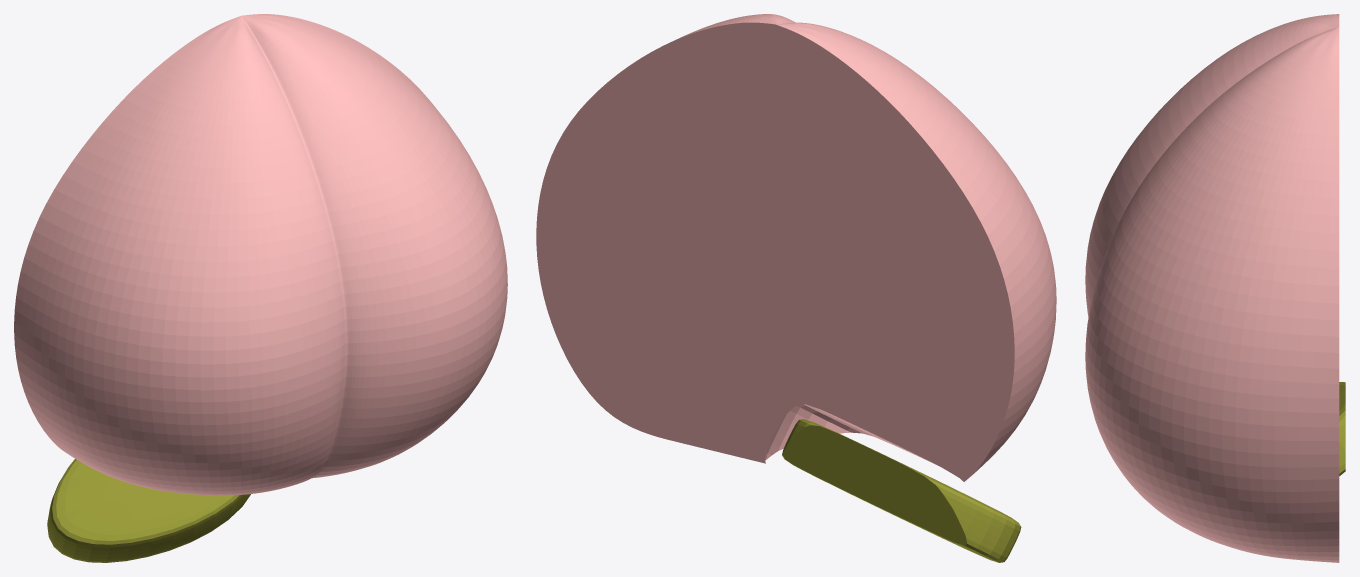
The model's file is peach.all.glb.
The picture shows the model from 3 angles, left to right: view 1: azimuth 30°, elevation 25°; view 2: azimuth 150°, elevation 25°; view 3: azimuth 270°, elevation 25°; orthographic projection. The views are drawn at different scales.
Parts seen in each view (by area): view 1: Sphere.039, Plane.152; view 2: Sphere.039, Plane.152; view 3: Sphere.039, Plane.152.
Boxes of the visible parts, x1,y1,x2,y2 form: Sphere.039: [14, 14, 507, 495]; Plane.152: [47, 459, 250, 562]; Sphere.039: [536, 14, 1056, 481]; Plane.152: [782, 419, 1021, 562]; Sphere.039: [1085, 14, 1339, 562]; Plane.152: [1339, 382, 1345, 475].
Bounding box in the file's own units: 14.56 × 14.85 × 6.54.
